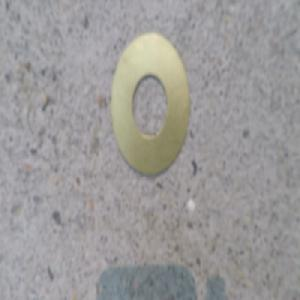Washer: (115, 51, 190, 184)
